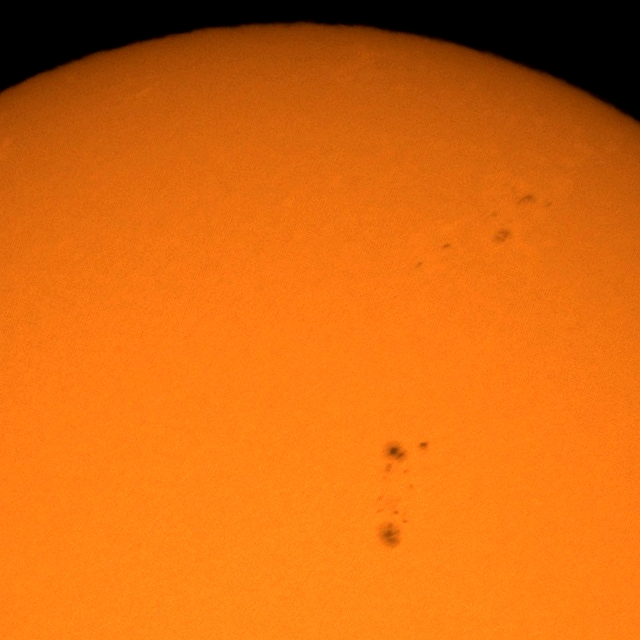sunspot: (376, 512, 405, 549), (382, 440, 408, 478), (418, 440, 430, 452)
